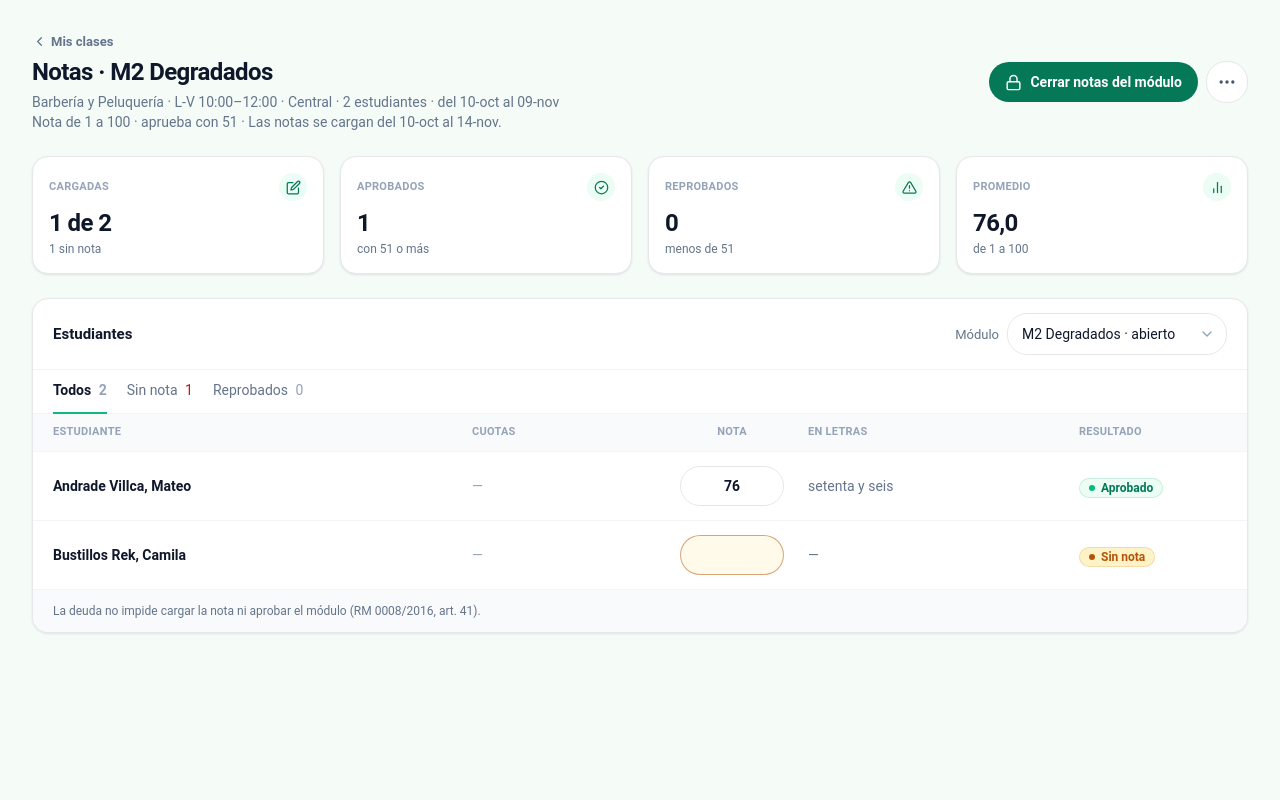
Test case: L7 · Notas: borrador y «Guardar notas» › una nota inválida se marca y no se manda nada (tampoco las buenas)
Replace the text in the field named "Nota de Andrade Villca, Mateo" with "80": [732, 486] box [680,466,784,506]
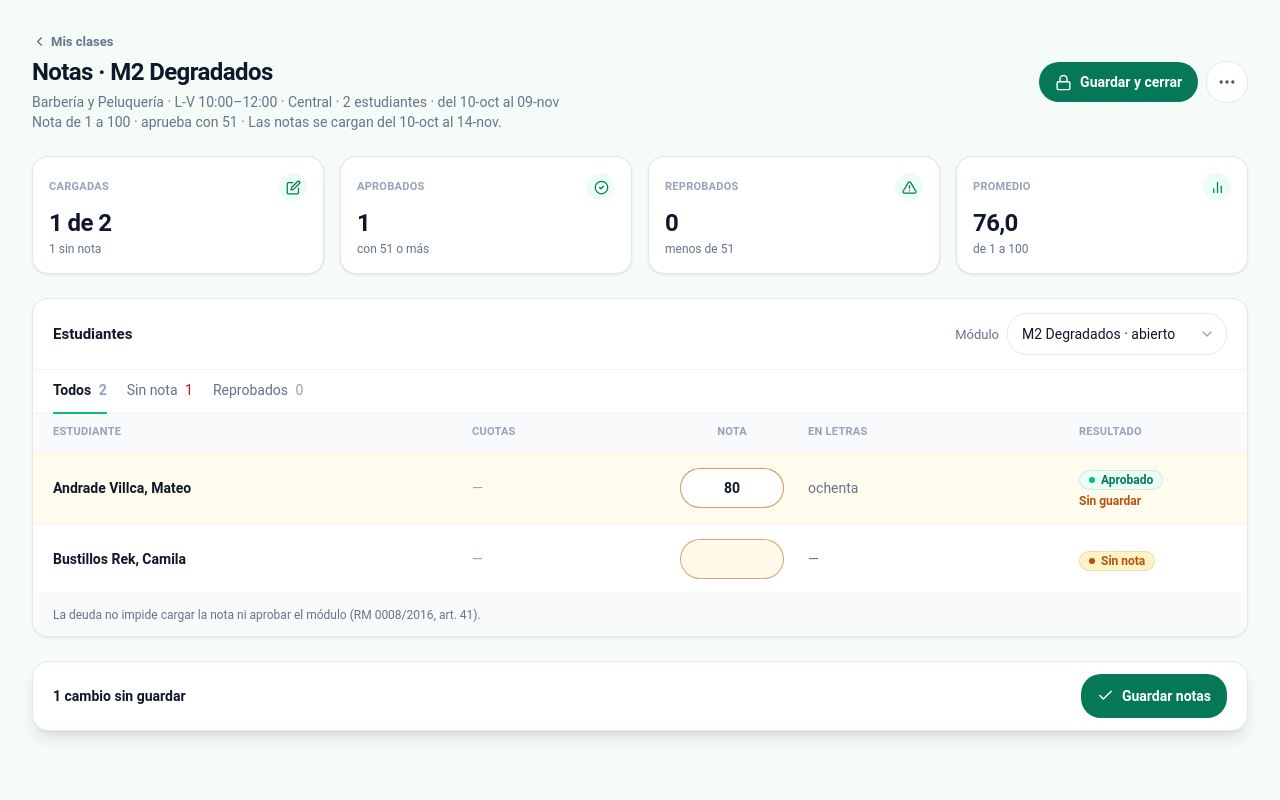
In the field named "Nota de Bustillos Rek, Camila": [732, 559] box [680,539,784,579], type "75.5"
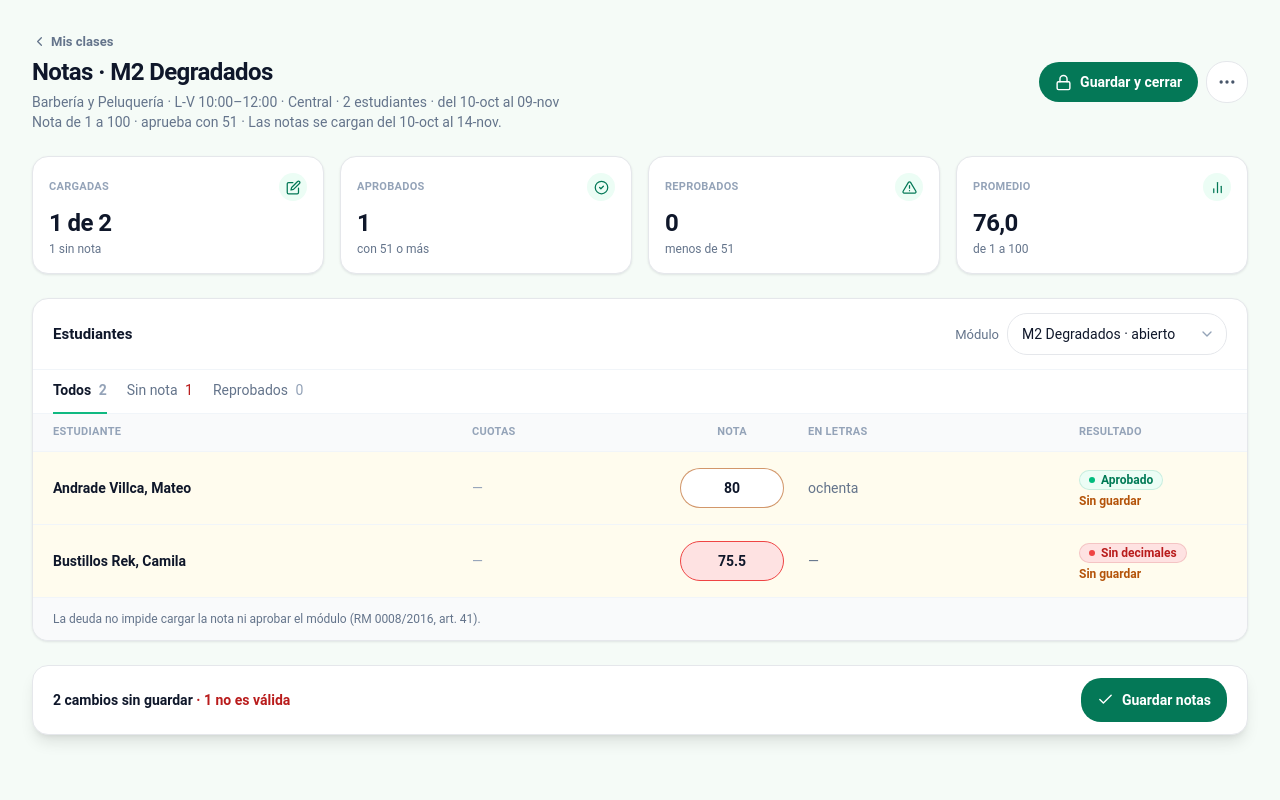
Expected: the text "Sin decimales" is shown, [1079,543,1187,563]
Expected: the element named "Notas sin guardar" shows "2 cambios sin guardar · 1 no es válida", [32,665,1248,735]
Click the button "Guardar notas": [1154, 700] box [1081,678,1227,722]
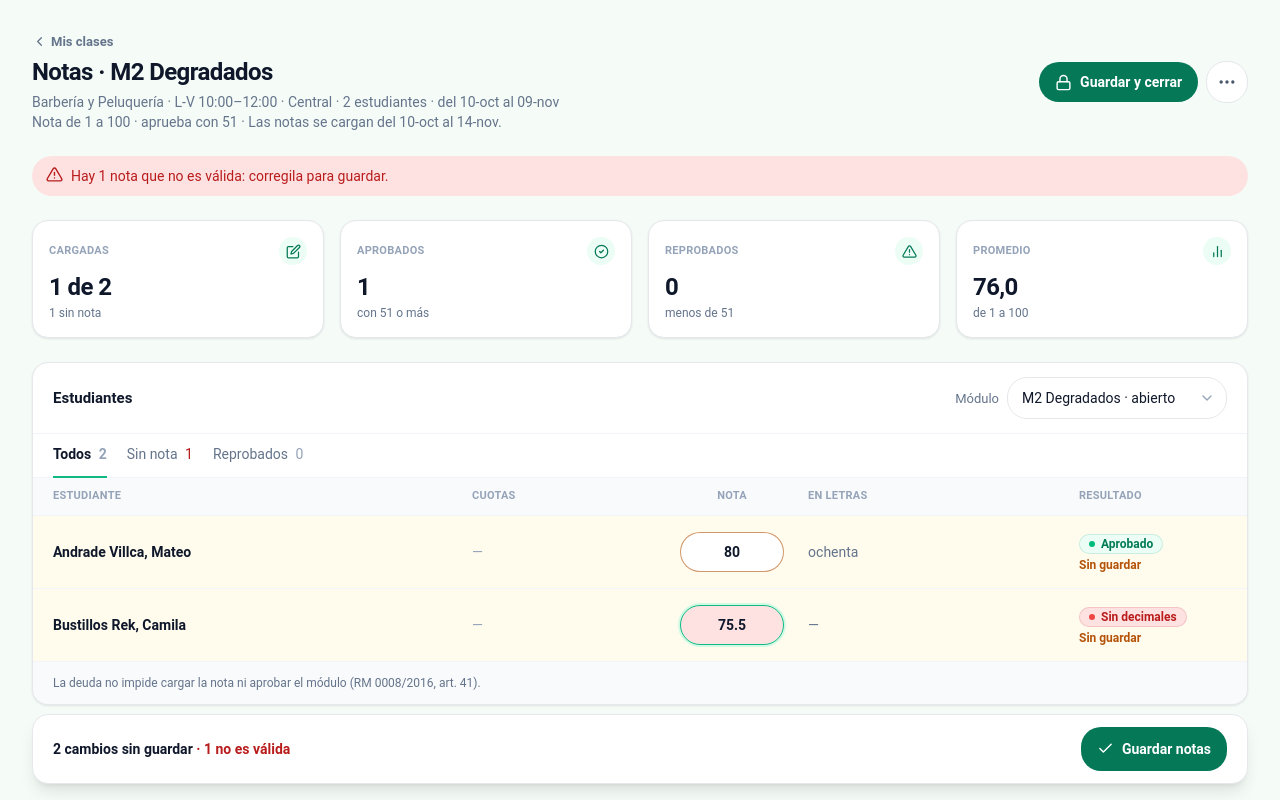
Expected: the text "Hay 1 nota que no es válida: corregila para guardar." is shown, [71,168,388,184]
Replace the text in the field named "Nota de Bustillos Rek, Camila" with "150": [732, 625] box [680,605,784,645]
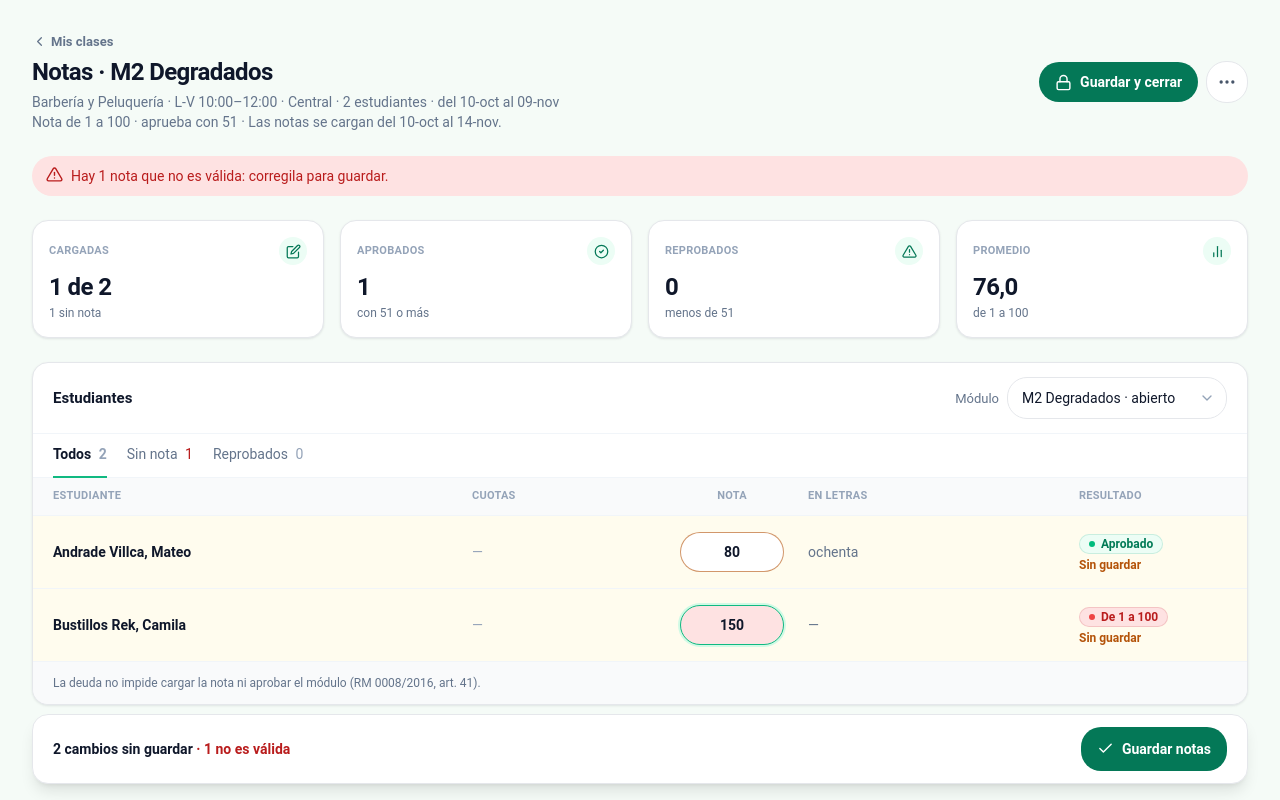
Expected: the text "De 1 a 100" is shown, [1079,607,1168,627]
